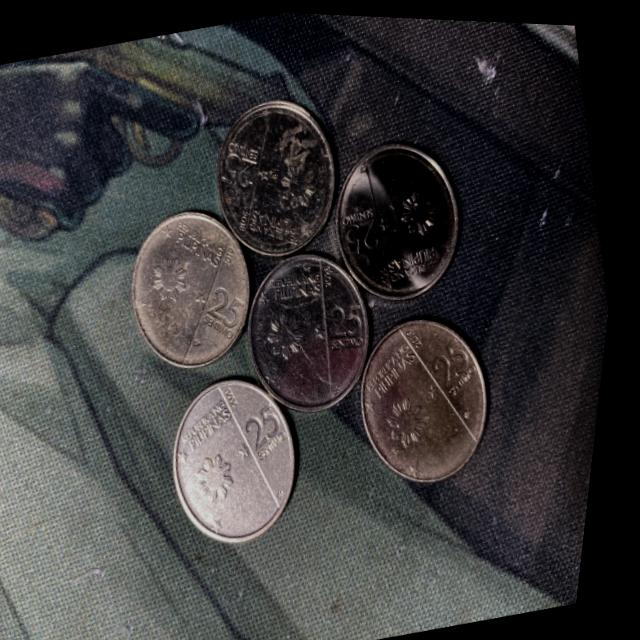25Cent_New_Front: (430, 330, 485, 388), (328, 292, 376, 345), (247, 395, 294, 449), (208, 282, 256, 333), (343, 210, 387, 257), (218, 147, 262, 191)
